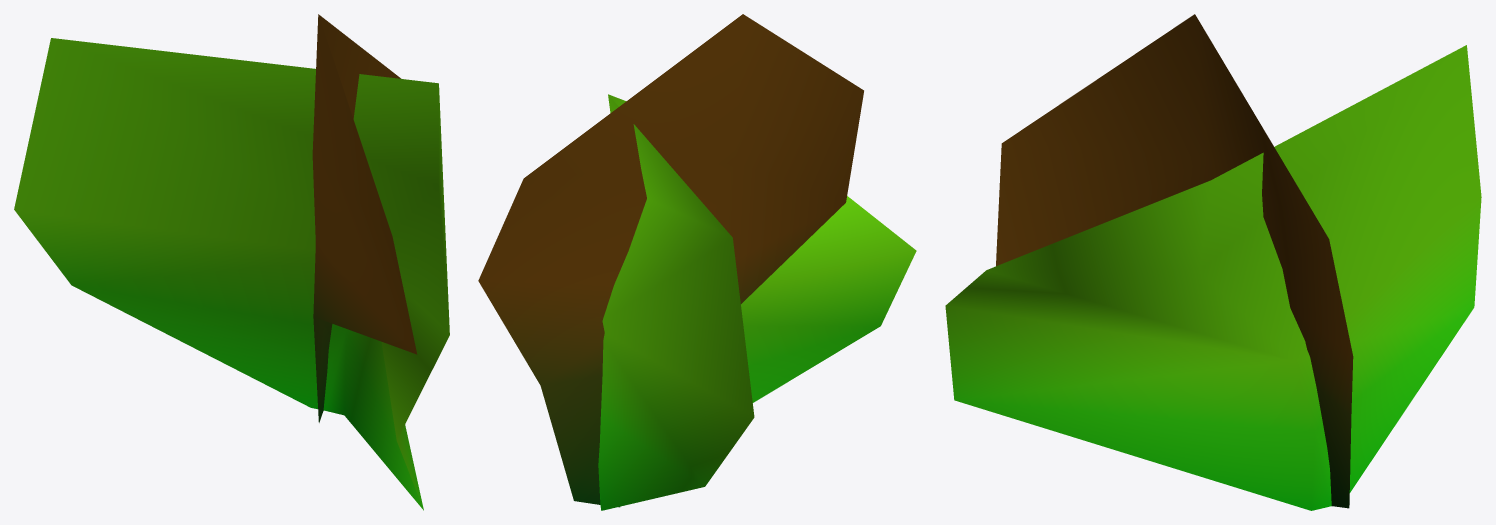
The model's file is Var1Hi20.fbx.
The picture shows the model from 3 angles, left to right: view 1: azimuth 30°, elevation 25°; view 2: azimuth 150°, elevation 25°; view 3: azimuth 270°, elevation 25°; orthographic projection. The views are drawn at different scales.
Parts seen in each view (by area): view 1: bend1; view 2: bend1; view 3: bend1.
Boxes of the visible parts, x1,y1,x2,y2 form: bend1: [14, 14, 449, 510]; bend1: [478, 14, 916, 510]; bend1: [945, 14, 1481, 510].
Bounding box in the file's own units: 1.04 × 1.35 × 1.42.
